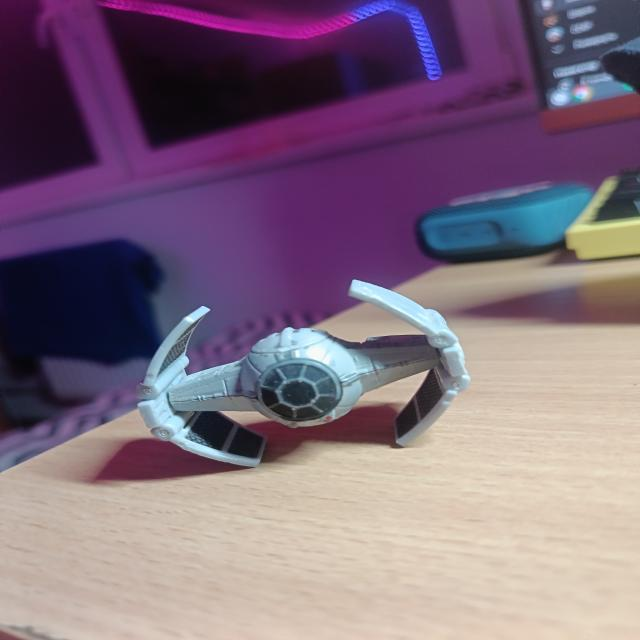tie fighter: (137, 281, 470, 468)
